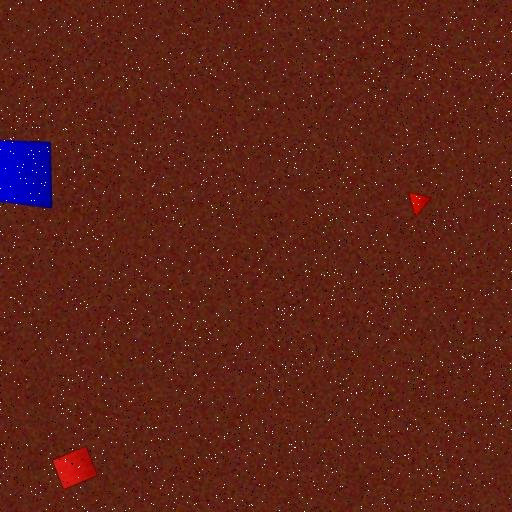BLUE_SQUARE: (0, 139, 53, 210)
RED_SQUARE: (51, 445, 98, 490)
